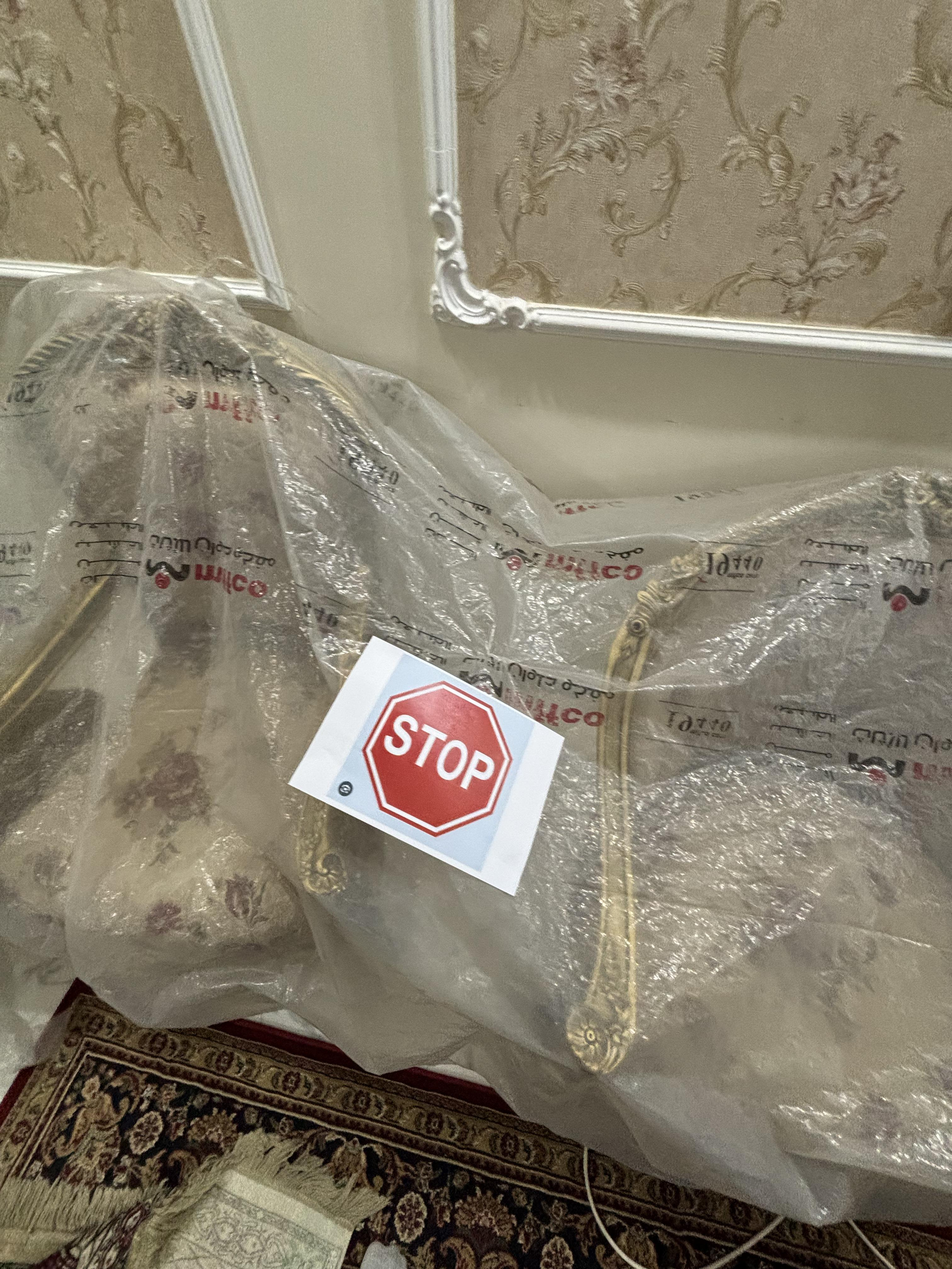Stop: (362, 676, 519, 838)
